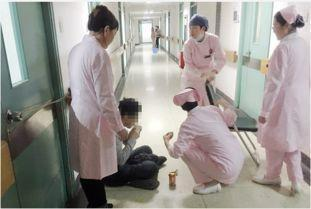Fall-Detected: (103, 95, 167, 193)
